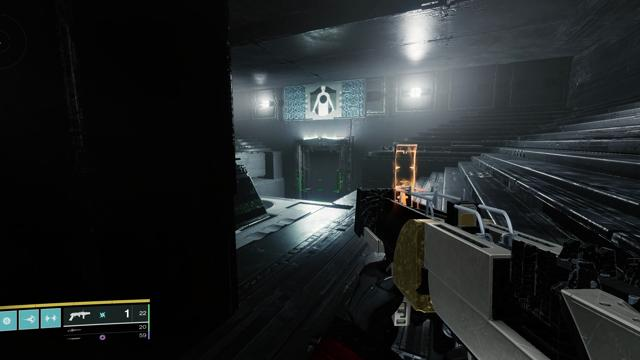grief: (310, 86, 336, 116)
